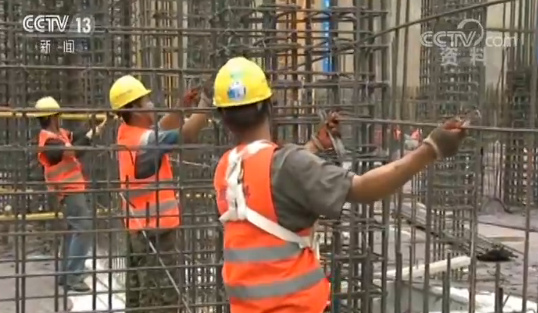safetyhat: (193, 53, 405, 313), (91, 70, 186, 300), (21, 84, 93, 291)
